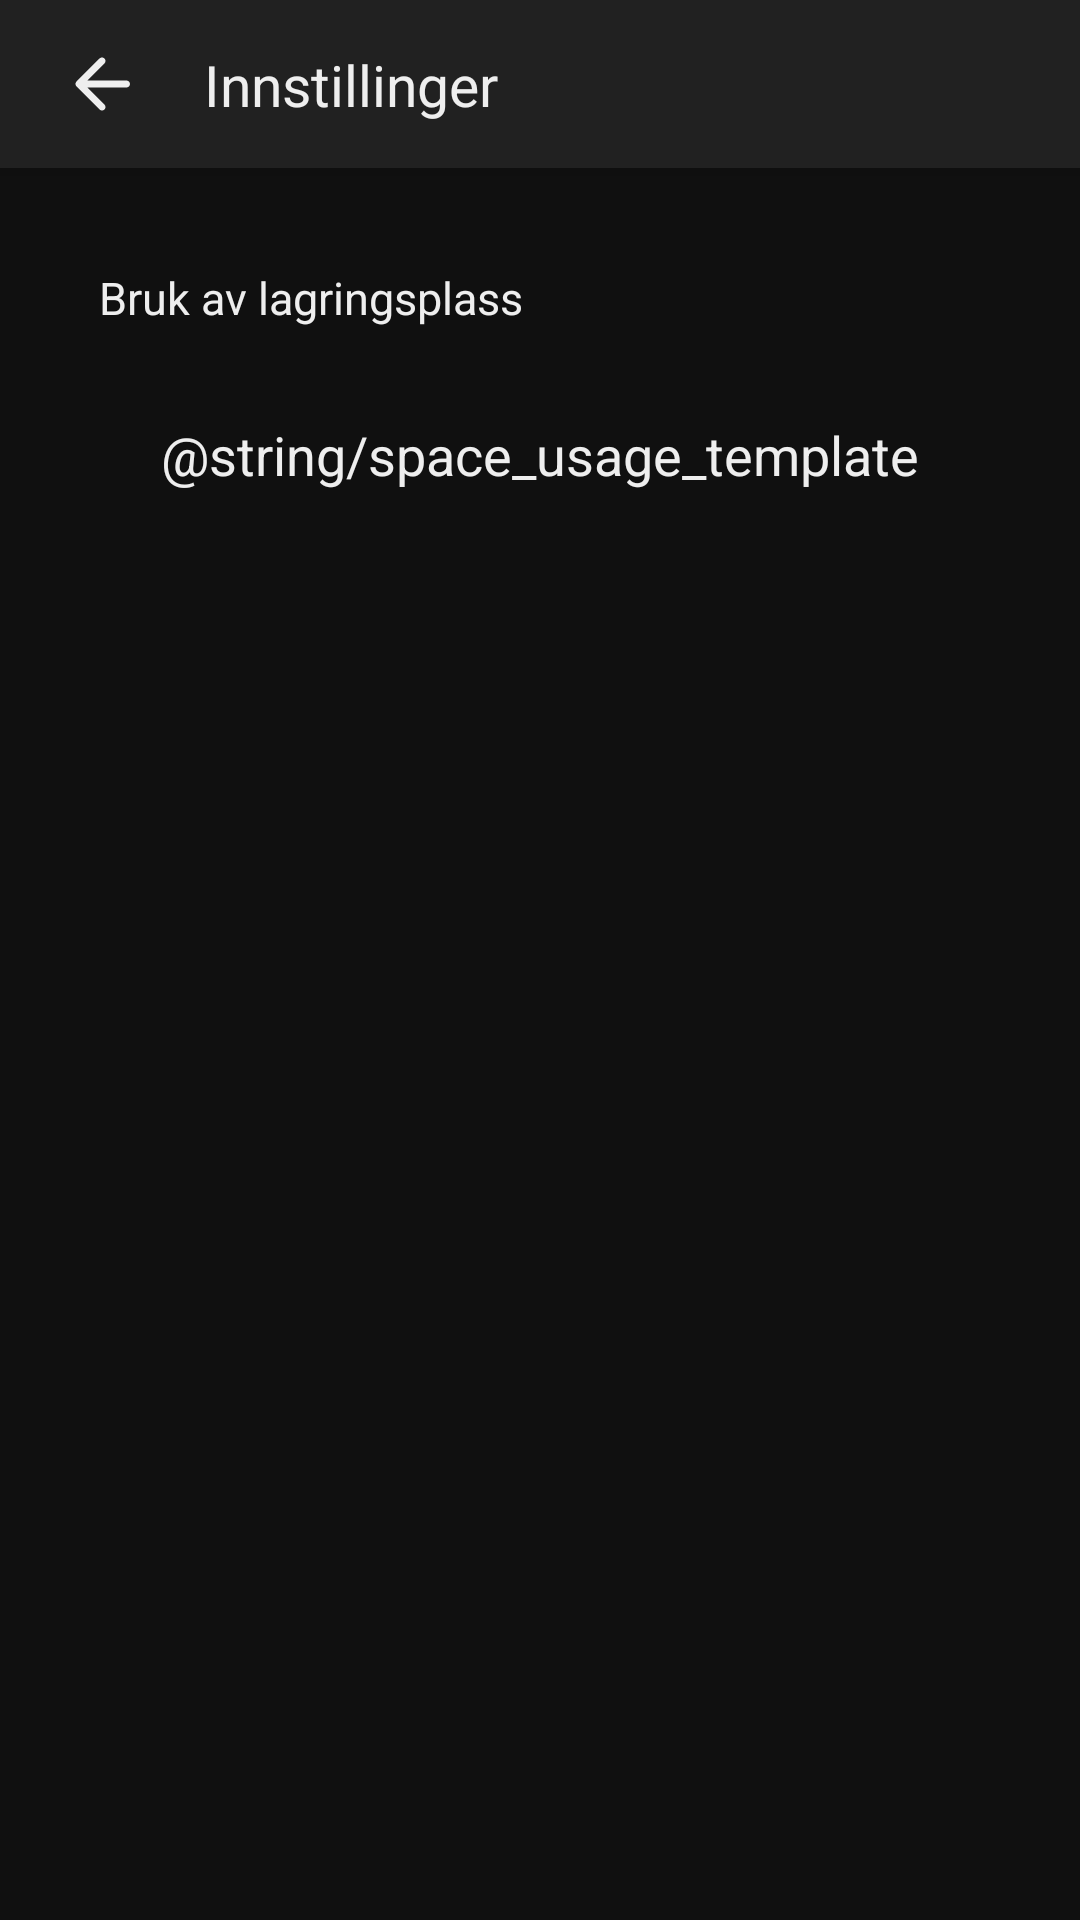

Icons on this 1080 × 1920 Android screen, each with the point to tap as point (x, y):
arrow back: point (102, 84)
